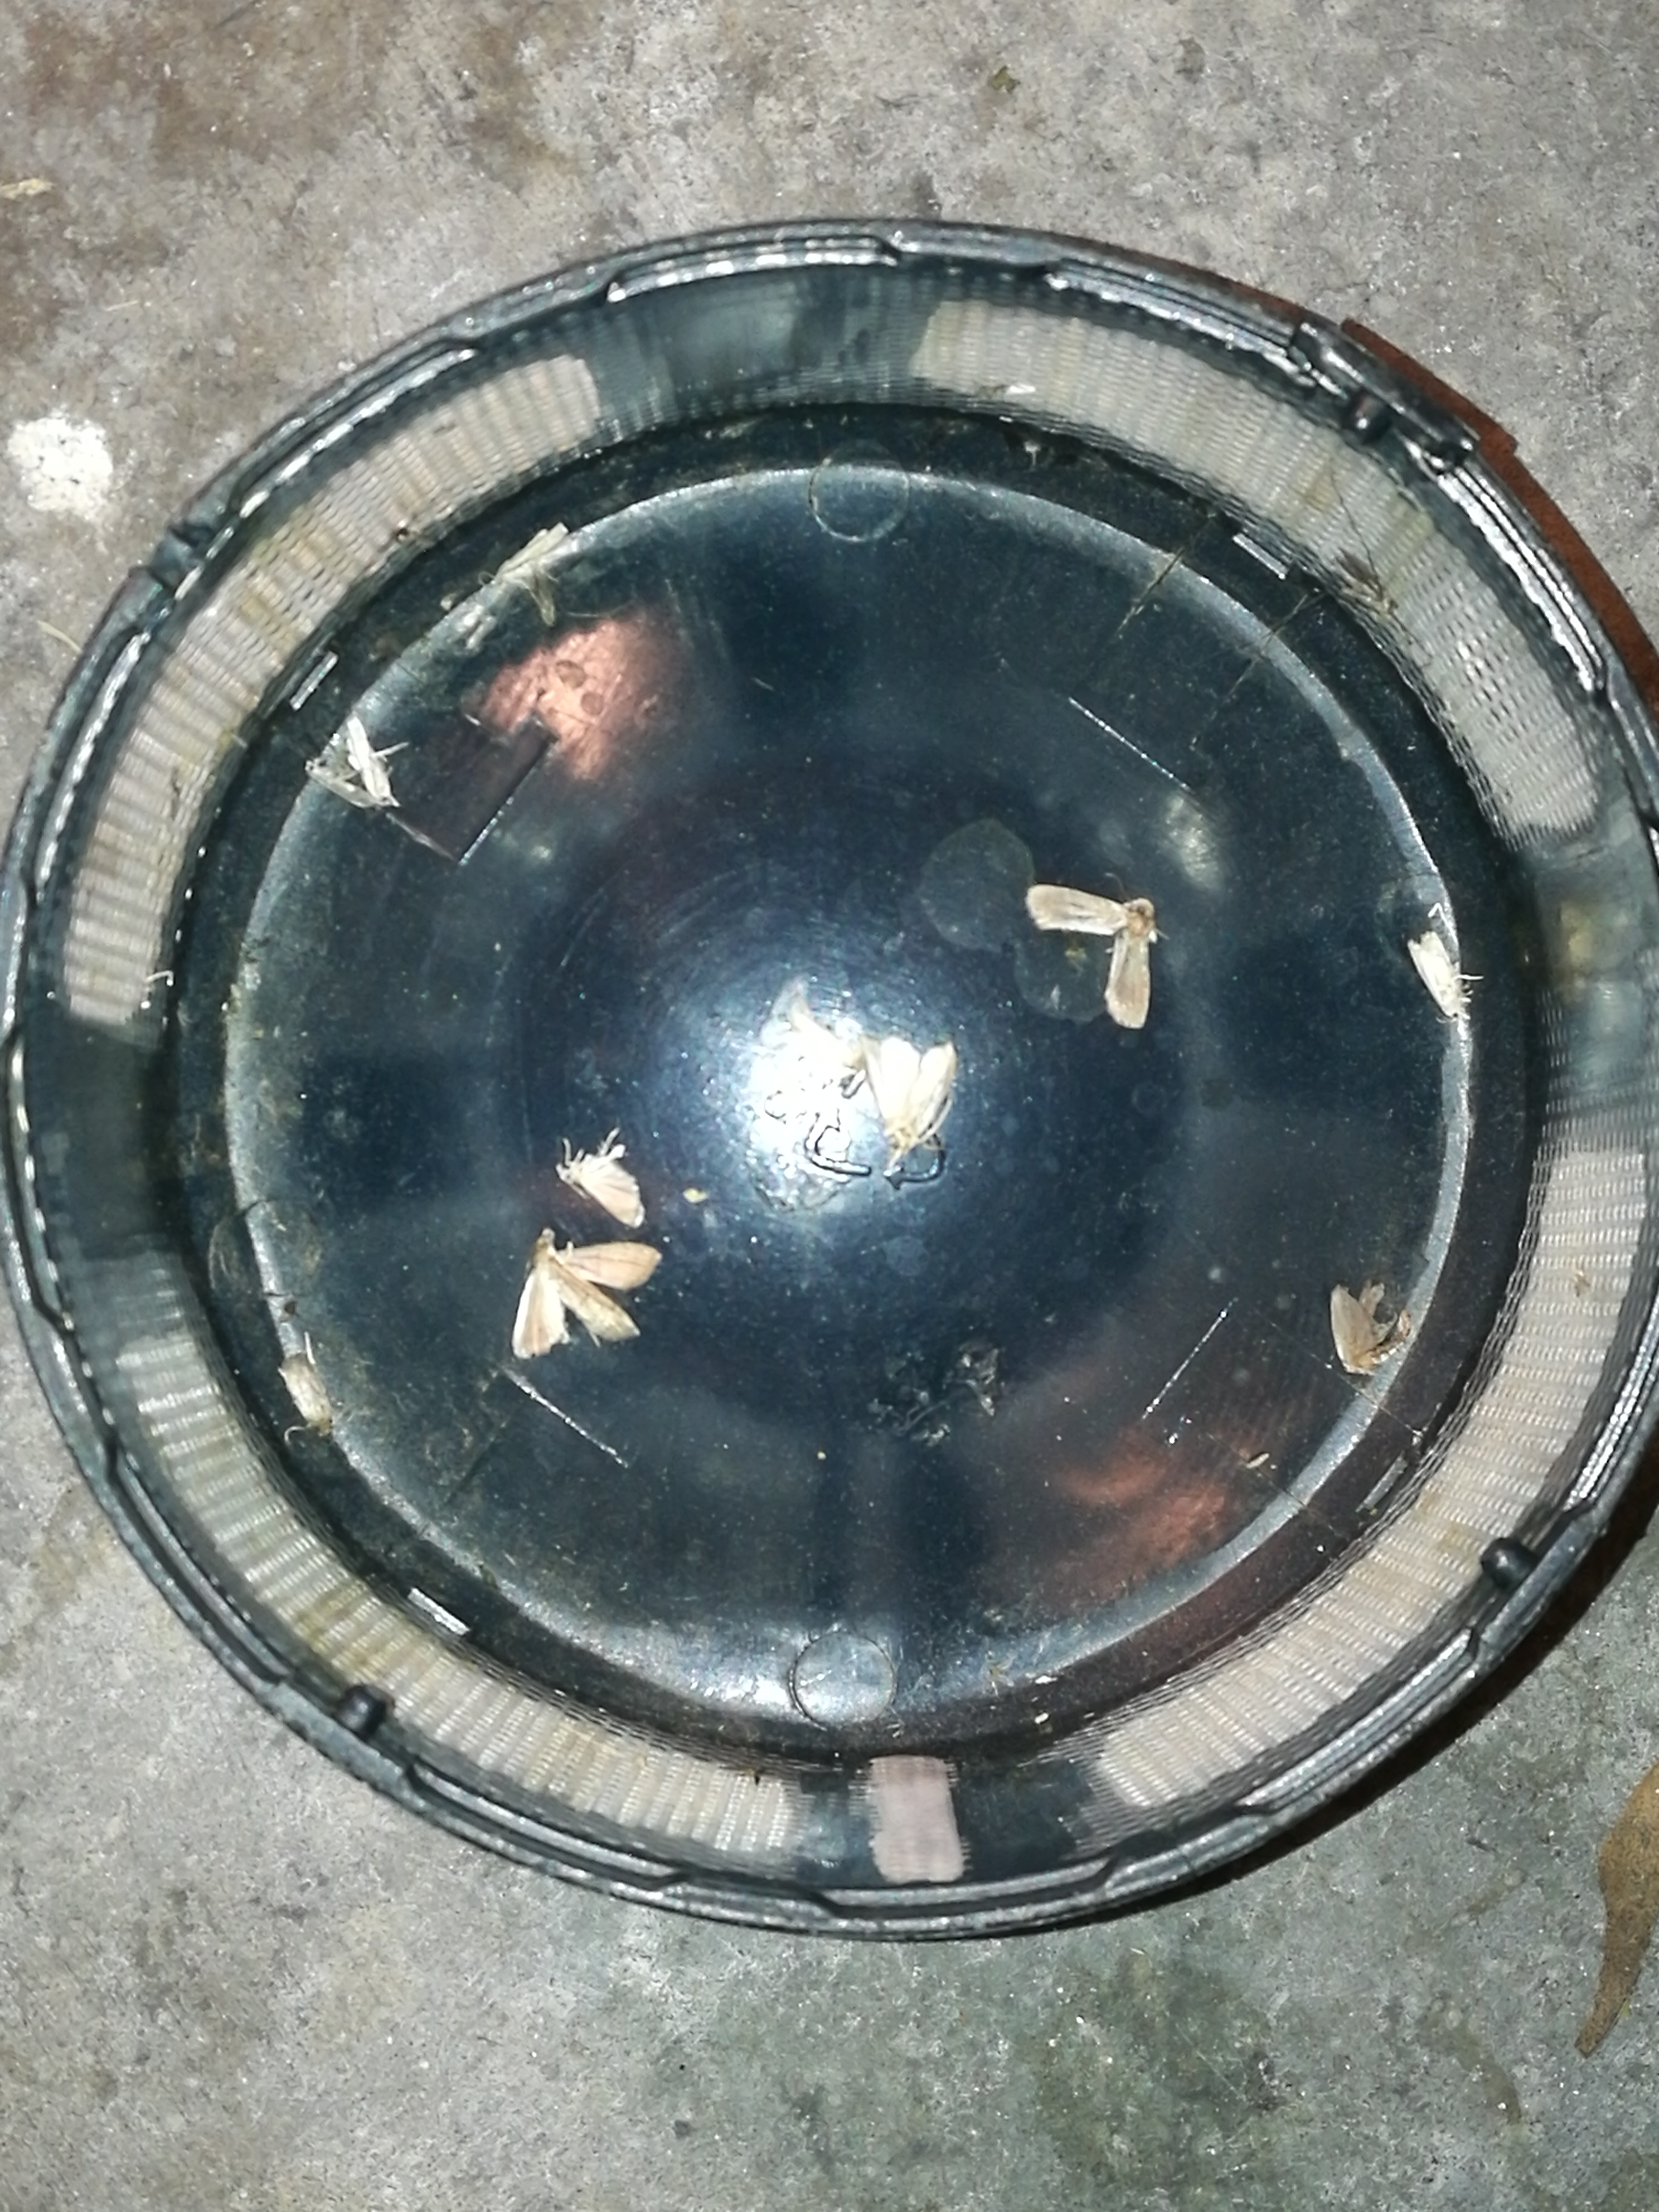mosquito: (1406, 934, 1464, 1019), (349, 716, 392, 806), (305, 763, 371, 806)
moth: (511, 1228, 662, 1359), (1025, 885, 1155, 1029), (497, 524, 580, 627), (1331, 1284, 1410, 1378), (556, 1155, 645, 1228)
